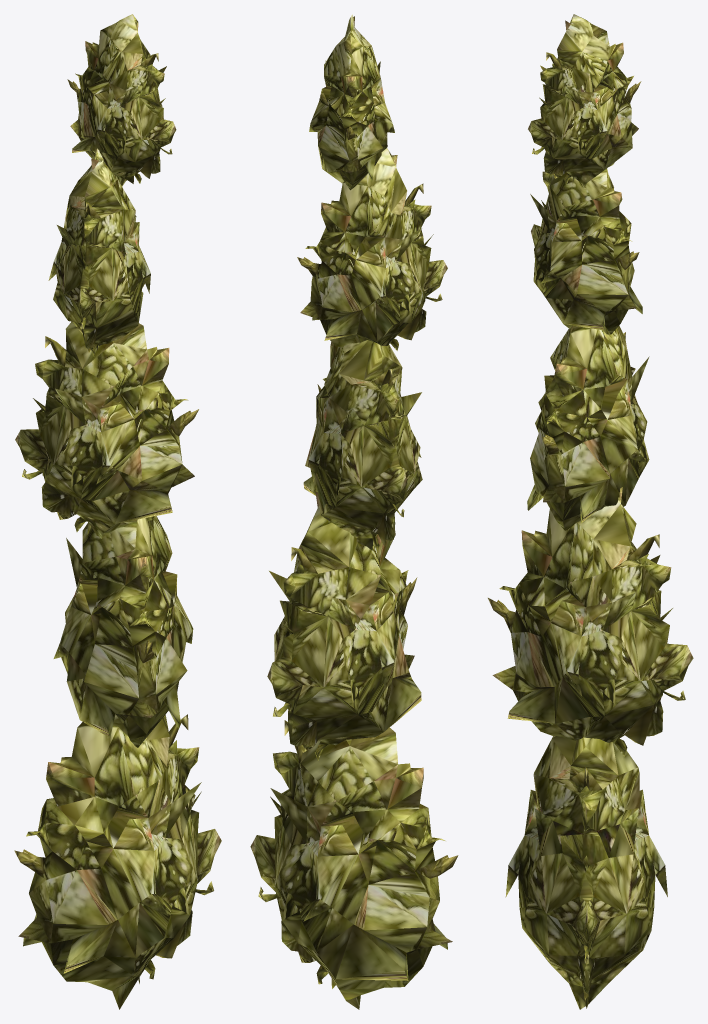
The model's file is sky_spire_bud.glb.
3 views of the same model, side by side, from view 1: azimuth 30°, elevation 25°; view 2: azimuth 150°, elevation 25°; view 3: azimuth 270°, elevation 25° (orthographic).
Visible parts, largest first — view 1: Mesh; view 2: Mesh; view 3: Mesh.
Boxes of the visible parts, x1=… form: Mesh: x1=14, y1=14, x2=221, y2=1009; Mesh: x1=250, y1=14, x2=458, y2=1009; Mesh: x1=488, y1=14, x2=693, y2=1009.
Size of the model in its own units: 0.204 by 0.9313 by 0.1739.
1 material, 1 textured.
